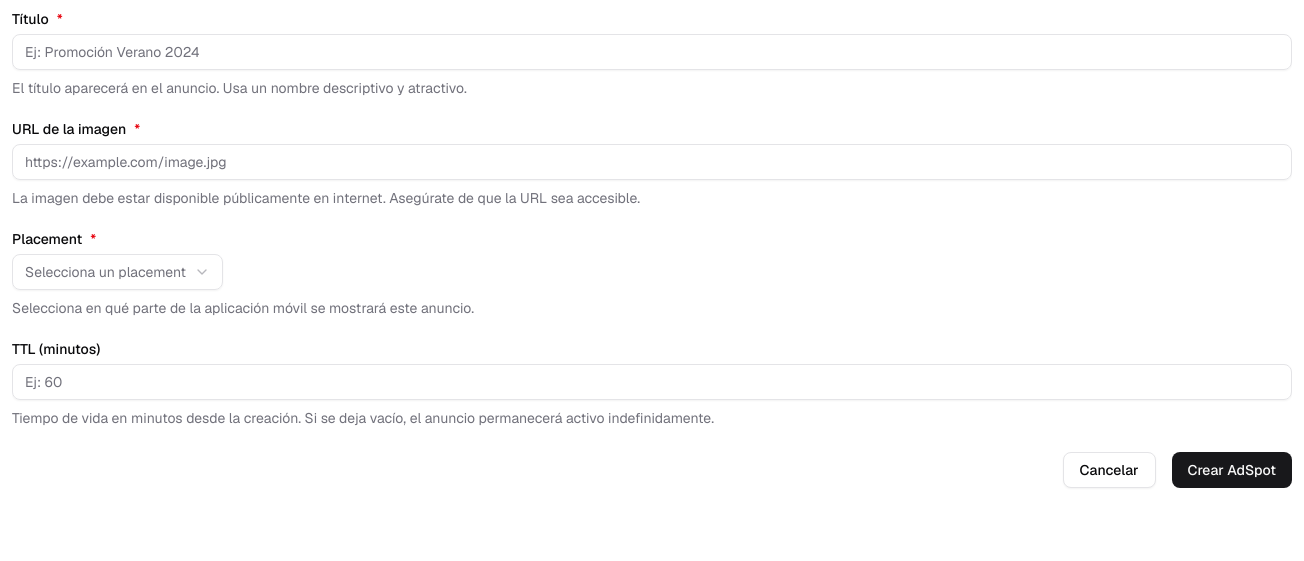
Scenario: AdSpotForm › Validación de campos › debe mostrar error si la URL de imagen está vacía
The width and height of the screenshot is (1304, 561).
In the field labelled "Título *": point(652, 52) x1=12 y1=34 x2=1292 y2=70, type "Test Ad"
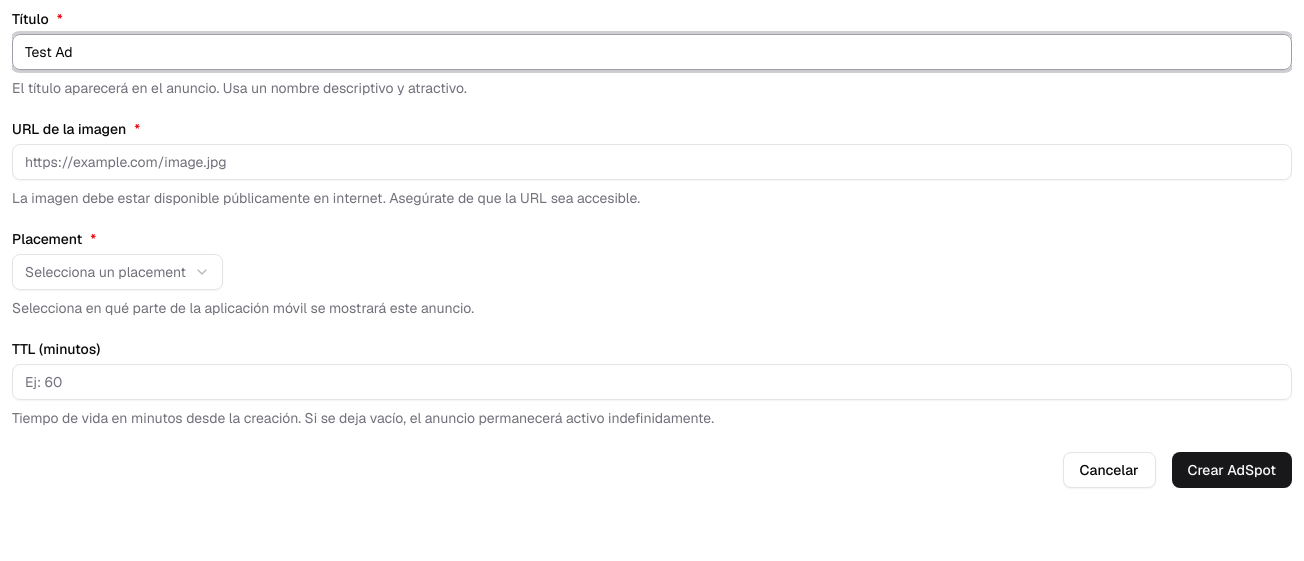
Click the button "Crear AdSpot": point(1232, 470) x1=1172 y1=452 x2=1292 y2=488
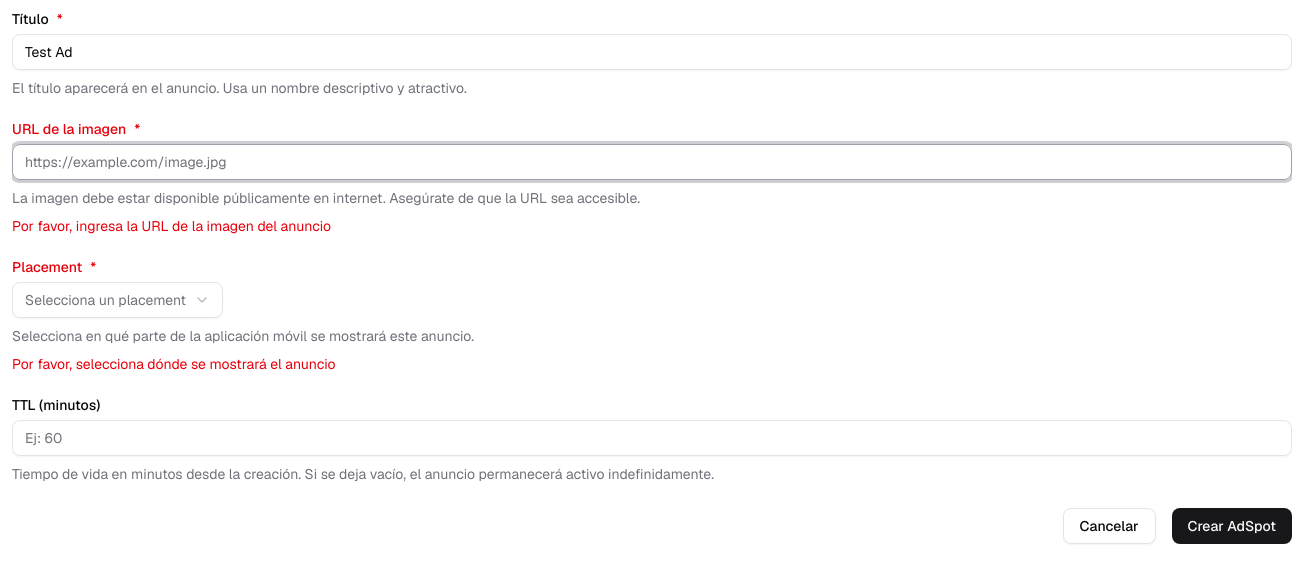
Result: the text "Por favor, ingresa la URL de la imagen del anuncio" is shown at x1=12 y1=217 x2=331 y2=235
